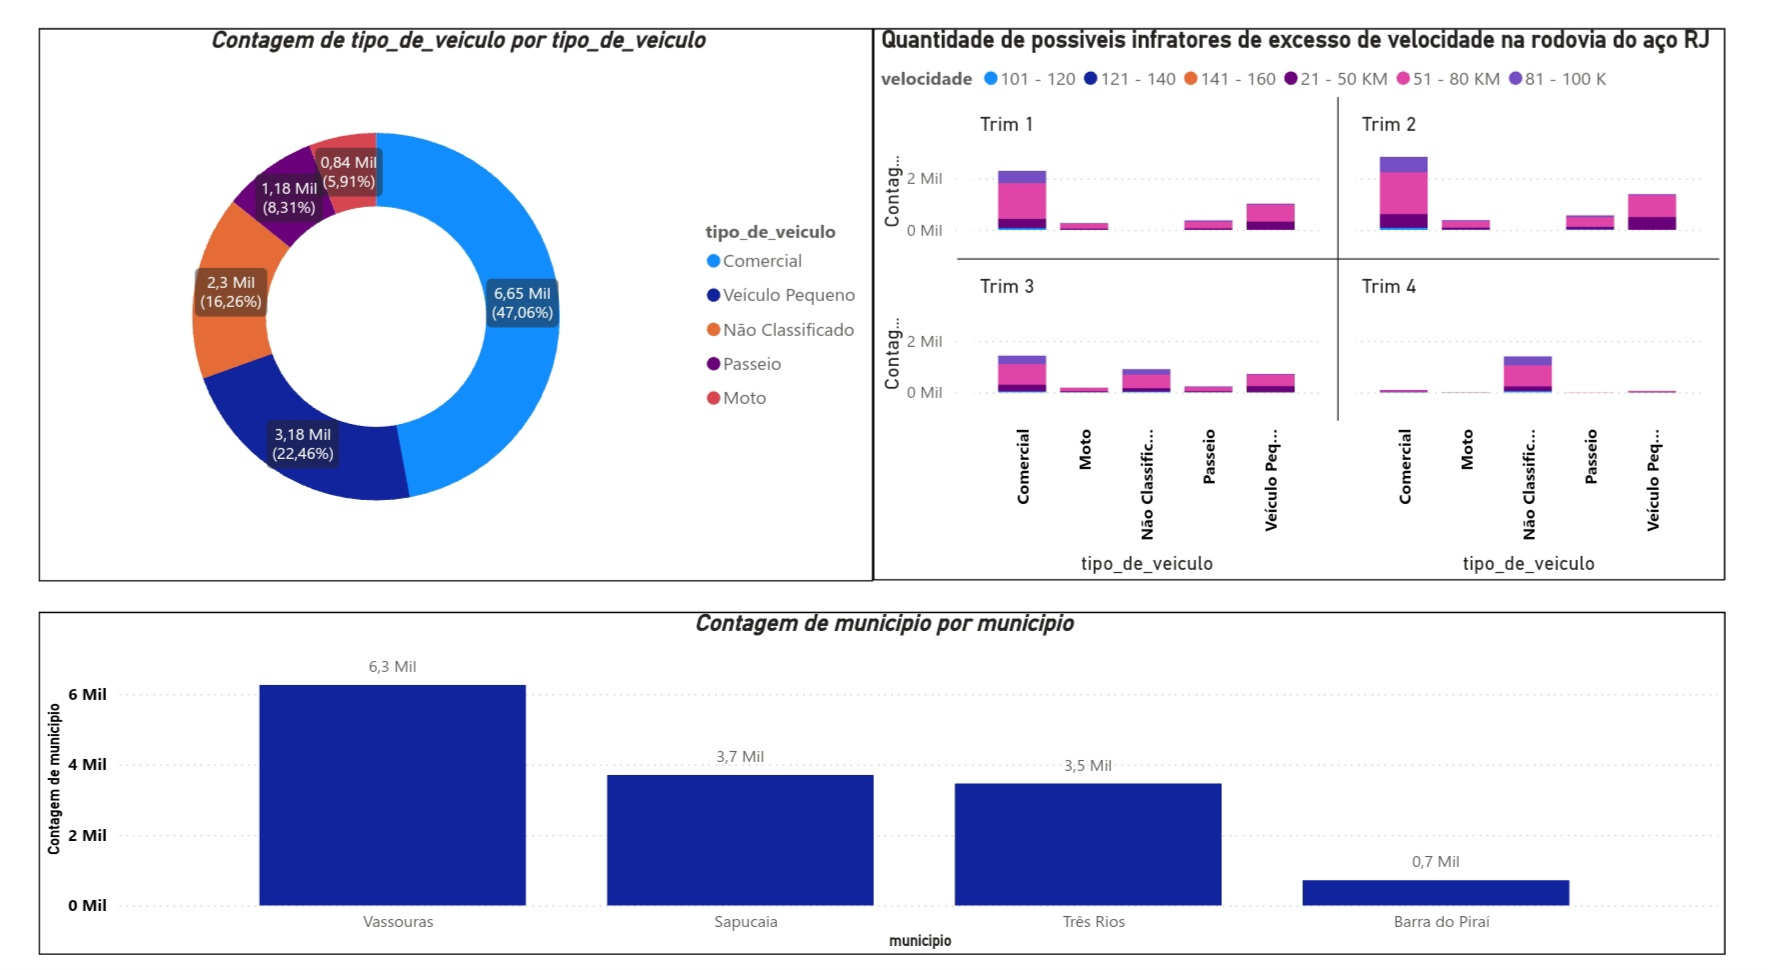

Layout of this report page (visuals, bound fields, positions):
{"tool":"powerbi","page":{"name":"Página 1","canvas":[1280,720],"ordinal":0},"visuals":[{"type":"columnChart","title":"Quantidade de possiveis infratores de excesso de velocidade  na rodovia do aço RJ","fields":{"Category":["RODOVIA AÇO.tipo_de_veiculo"],"Y":["CountNonNull(RODOVIA AÇO.uf)"],"Series":["RODOVIA AÇO.velocidade"],"Rows":["RODOVIA AÇO.data_da_passagem.Variation.Hierarquia de datas.Trimestre"]},"box":[640.5,21.8,629.6,408.1],"z":0},{"type":"donutChart","fields":{"Category":["RODOVIA AÇO.tipo_de_veiculo"],"Y":["CountNonNull(RODOVIA AÇO.tipo_de_veiculo)"]},"box":[23.3,21.4,616.7,408.5],"z":1000},{"type":"clusteredColumnChart","fields":{"Category":["RODOVIA AÇO.municipio"],"Y":["CountNonNull(RODOVIA AÇO.municipio)"]},"box":[23.8,450.8,1246.2,253.2],"z":2000}]}

Visuals, with their boxes in screenshot pixels (x1, y1, x2, y2), scaled from the page's 1280x720 canvas onto the 1768x970 screenshot:
"Quantidade de possiveis infratores de excesso de velocidade  na rodovia do aço RJ" columnChart: 885 29 1754 579
donutChart - RODOVIA AÇO.tipo_de_veiculo x CountNonNull(RODOVIA AÇO.tipo_de_veiculo): 32 29 884 579
clusteredColumnChart - RODOVIA AÇO.municipio x CountNonNull(RODOVIA AÇO.municipio): 33 607 1754 948
